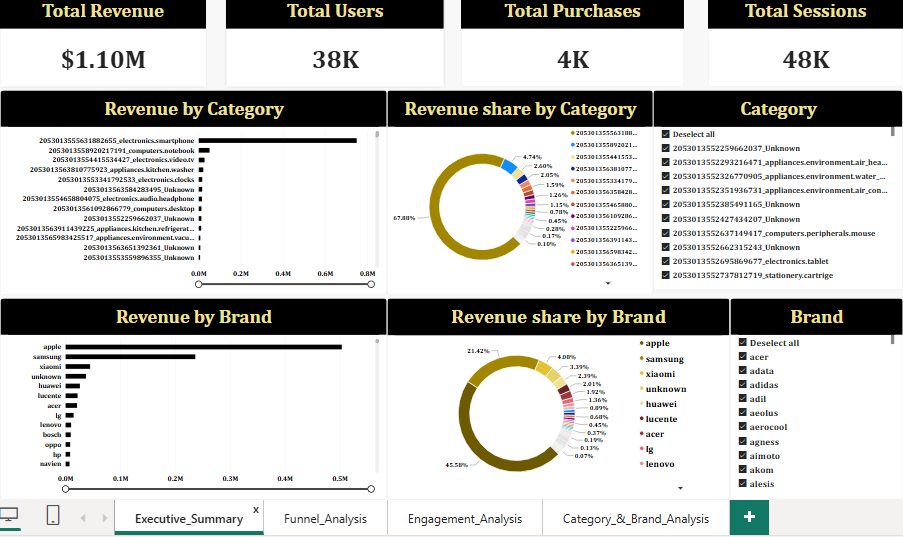

The page's visual inventory and layout, read from the dashboard file:
{"tool":"powerbi","page":{"name":"Executive_Summary","canvas":[1920,1080],"ordinal":0},"visuals":[{"type":"clusteredBarChart","title":"Revenue by Category","fields":{"Category":["category_revenue_1.category"],"Y":["Sum(category_revenue_1.Revenue)"]},"box":[0,208.3,822.8,435.8],"z":0},{"type":"cardVisual","title":"Total Revenue","fields":{"Data":["Sum(Executive_summary.total_revenue)"]},"box":[0,14.9,438,187.1],"z":1000},{"type":"cardVisual","title":"Total Purchases","fields":{"Data":["Sum(Executive_summary.total_purchases)"]},"box":[980.1,14.9,474.1,187.1],"z":2000},{"type":"cardVisual","title":"Total Sessions","fields":{"Data":["Sum(Executive_summary.total_sessions)"]},"box":[1505.2,14.9,414.6,187.1],"z":3000},{"type":"clusteredBarChart","title":"Revenue by Brand","fields":{"Category":["revenue_by_brand.brand"],"Y":["Sum(revenue_by_brand.brand_revenue)"]},"box":[0,650.6,822.8,429.4],"z":4000},{"type":"donutChart","title":"Revenue share by Category","fields":{"Category":["category_revenue_1.category"],"Y":["Sum(category_revenue_1.Revenue)"]},"box":[822.8,208.3,565.5,435.8],"z":5000},{"type":"listSlicer","title":"Category","fields":{"Values":["category_revenue_1.category"]},"box":[1388.3,208.3,531.5,425.2],"z":6000},{"type":"donutChart","title":"Revenue share by Brand","fields":{"Category":["revenue_by_brand.brand"],"Y":["Sum(revenue_by_brand.brand_revenue)"]},"box":[822.8,650.6,729.2,429.4],"z":7000},{"type":"listSlicer","title":"Brand","fields":{"Values":["revenue_by_brand.brand"]},"box":[1552,650.6,367.8,429.4],"z":8000},{"type":"cardVisual","title":"Total Users","fields":{"Data":["Sum(Executive_summary.total_users)"]},"box":[480.5,14.9,463.5,187.1],"z":9000}]}

Visuals, with their boxes on the page's 1920x1080 design canvas (x1, y1, x2, y2). These are canvas units, not pixel positions in the 903x537 screenshot, which may show the page scaled, cropped or inside an application window:
"Revenue by Category" clusteredBarChart: left=0, top=208, right=823, bottom=644
"Total Revenue" cardVisual: left=0, top=15, right=438, bottom=202
"Total Purchases" cardVisual: left=980, top=15, right=1454, bottom=202
"Total Sessions" cardVisual: left=1505, top=15, right=1920, bottom=202
"Revenue by Brand" clusteredBarChart: left=0, top=651, right=823, bottom=1080
"Revenue share by Category" donutChart: left=823, top=208, right=1388, bottom=644
"Category" listSlicer: left=1388, top=208, right=1920, bottom=634
"Revenue share by Brand" donutChart: left=823, top=651, right=1552, bottom=1080
"Brand" listSlicer: left=1552, top=651, right=1920, bottom=1080
"Total Users" cardVisual: left=480, top=15, right=944, bottom=202
